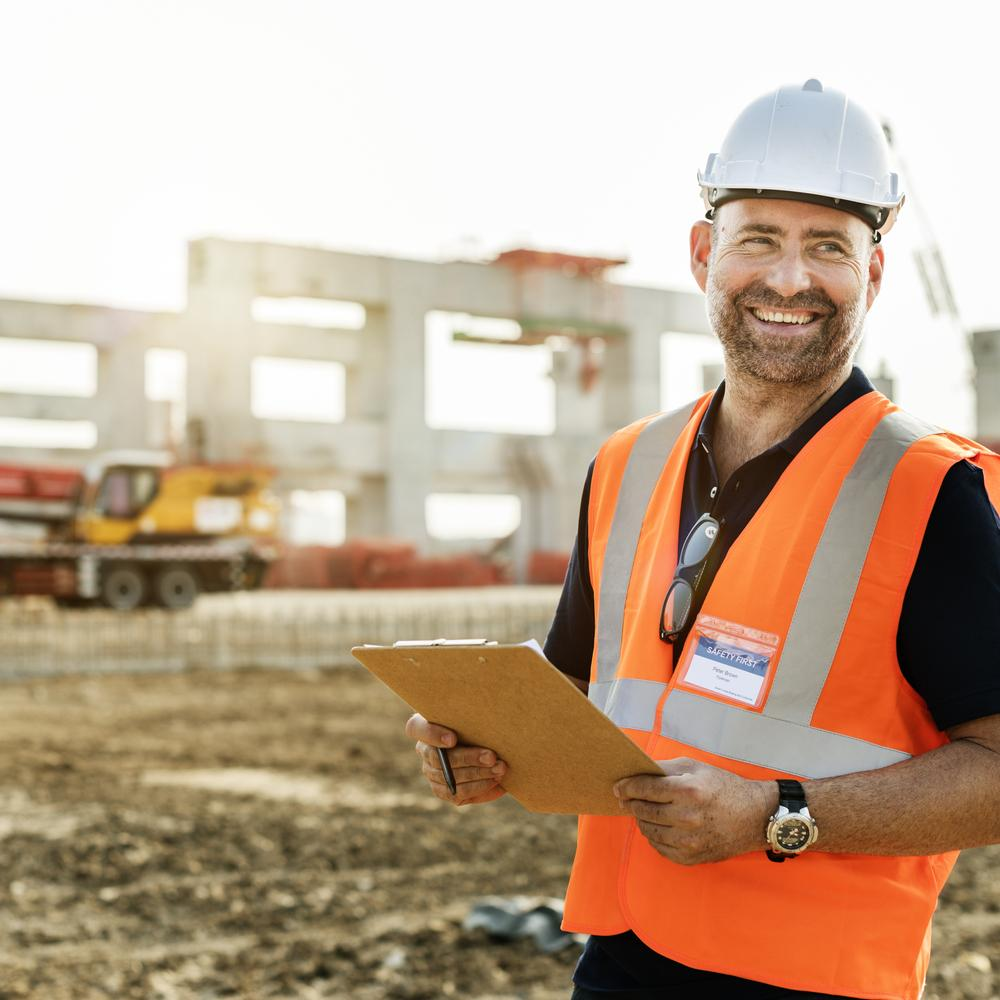helmet: (692, 75, 911, 239)
